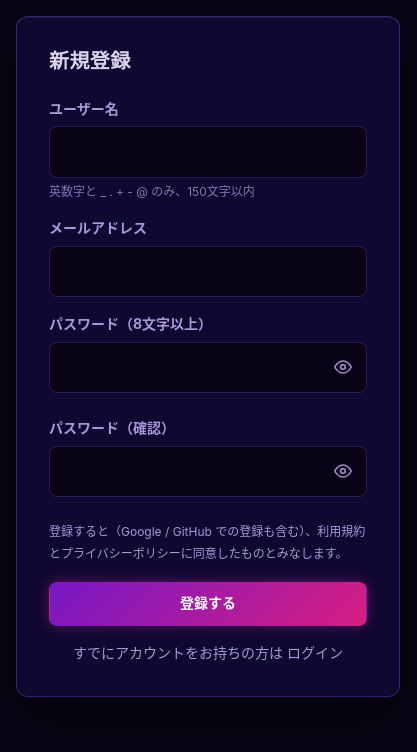
Test: RegisterPage › 確認用パスワードが一致しない場合はAPIを呼ばない
In the field labelled "ユーザー名": (208, 152) top-left (49, 126), bottom-right (367, 178), type "bob"
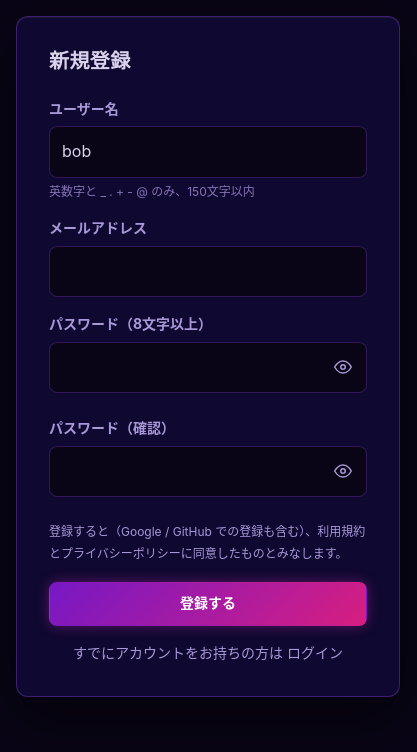
In the field labelled "メールアドレス": (208, 271) top-left (49, 246), bottom-right (367, 297), type "bob@example.com"
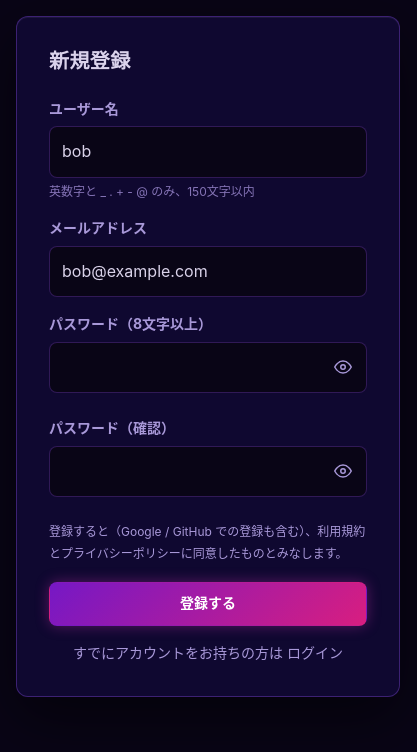
In the password field labelled "パスワード（8文字以上）": (208, 367) top-left (49, 342), bottom-right (367, 393), type "password123"
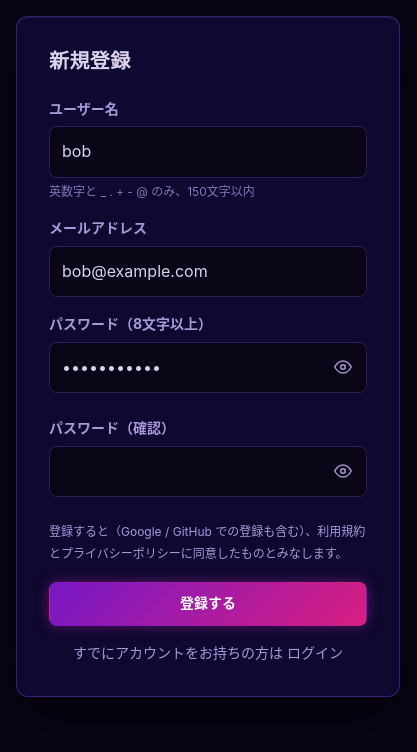
In the password field labelled "パスワード（確認）": (208, 471) top-left (49, 446), bottom-right (367, 497), type "different123"
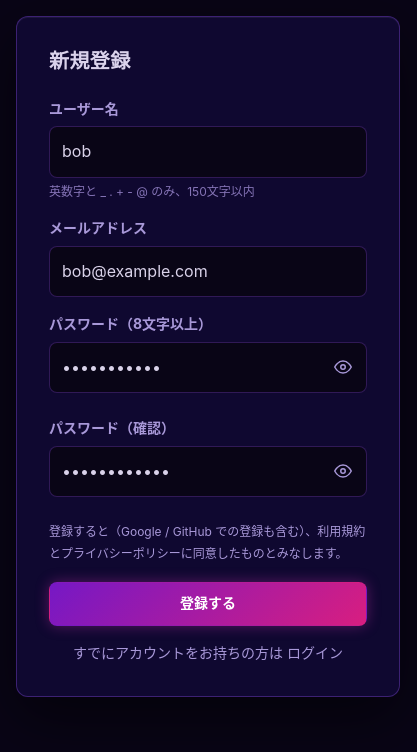
Submit the form, box top-left (49, 98), bottom-right (367, 626)
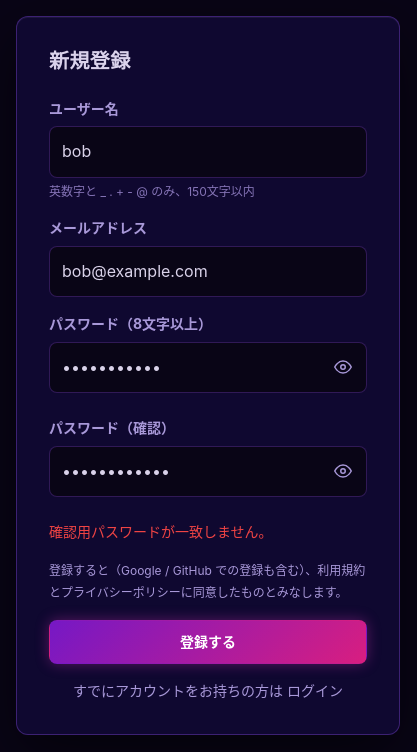
Result: the message reads "確認用パスワードが一致しません。" at top-left (49, 523), bottom-right (273, 540)
